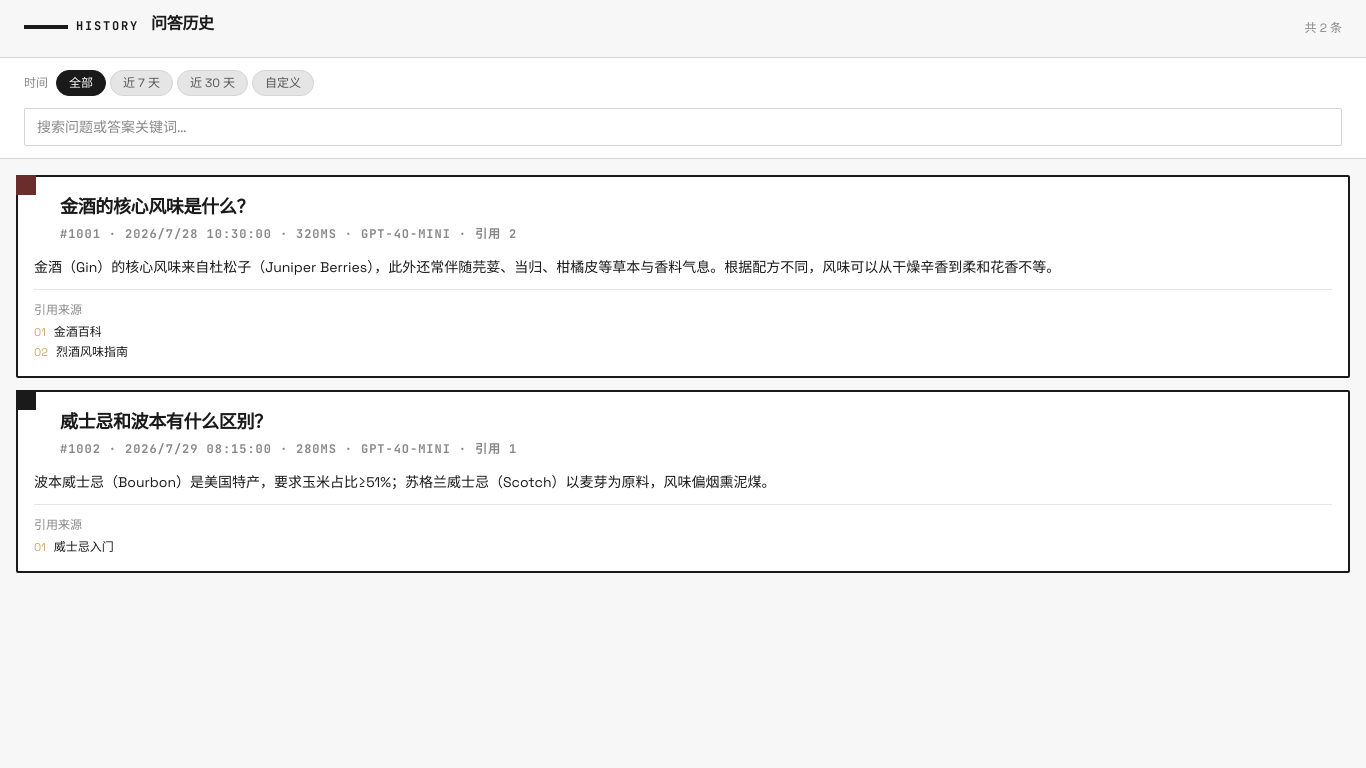
Scenario: HistoryPanel › 搜索过滤：输入关键词后仅展示匹配项
Expected: the text "金酒的核心风味是什么？" is shown, [60, 195, 254, 218]
Expected: the text "威士忌和波本有什么区别？" is shown, [60, 410, 272, 433]
Note: 输入「威士忌」过滤
Type "威士忌" into the search field named "历史搜索框" at (683, 127), box [24, 108, 1342, 146]
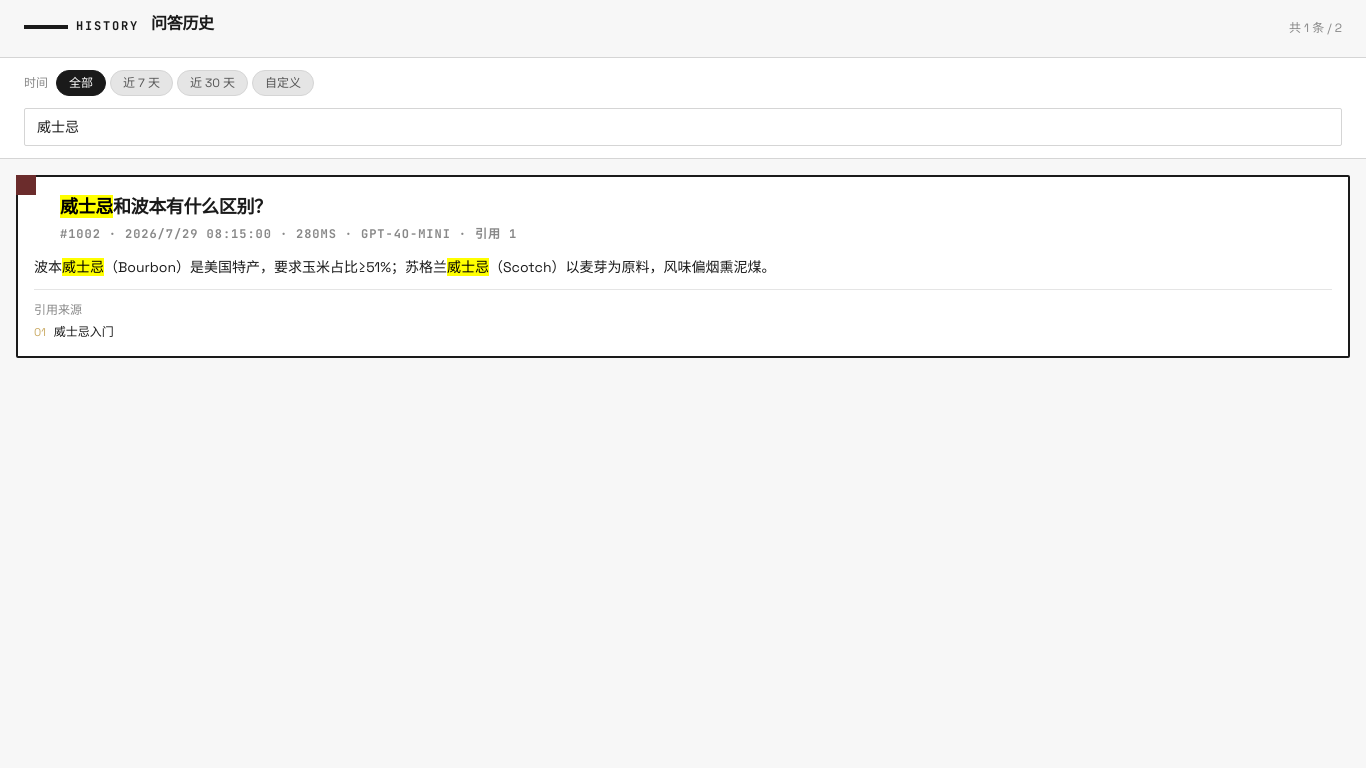
Expected: the text "威士忌和波本有什么区别" is shown, [60, 195, 272, 218]
Expected: the text "金酒的核心风味是什么" is gone
Expected: the text "共 1 条 / 2" is shown, [1289, 20, 1342, 36]
